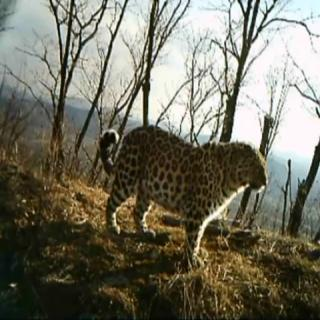Leopard: (86, 87, 292, 276)
